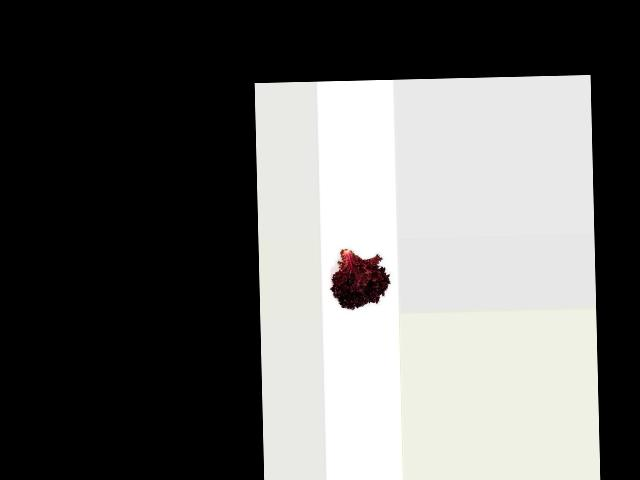lettuce: (332, 241, 392, 313)
